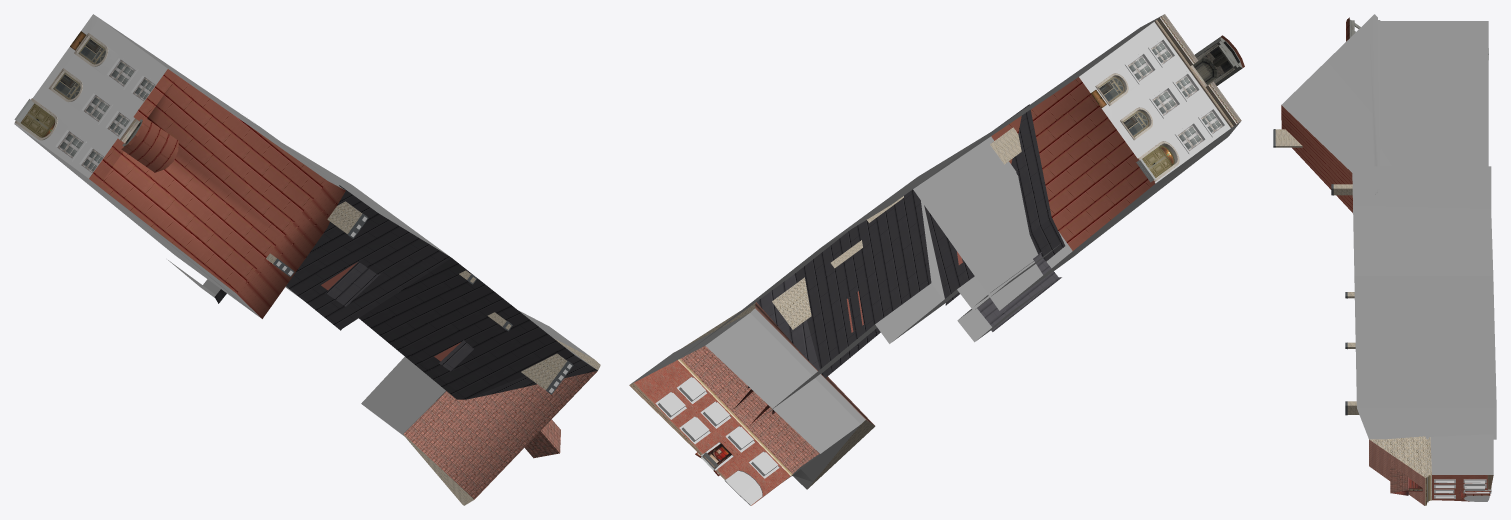
Rendered from Myyrivahe21.obj.
3 renders of one model, left to right at view 1: azimuth 30°, elevation 25°; view 2: azimuth 150°, elevation 25°; view 3: azimuth 270°, elevation 25°, orthographic. The views are drawn at different scales.
Parts seen in each view (by area): view 1: myyrivahe21_b; view 2: myyrivahe21_b; view 3: myyrivahe21_b.
Part boxes in pixels (box(x1,y1,x2,y2)): myyrivahe21_b: box(14, 14, 600, 505); myyrivahe21_b: box(629, 14, 1244, 505); myyrivahe21_b: box(1273, 14, 1496, 505).
Bounding box in the file's own units: 40.21 × 38.16 × 20.38.
